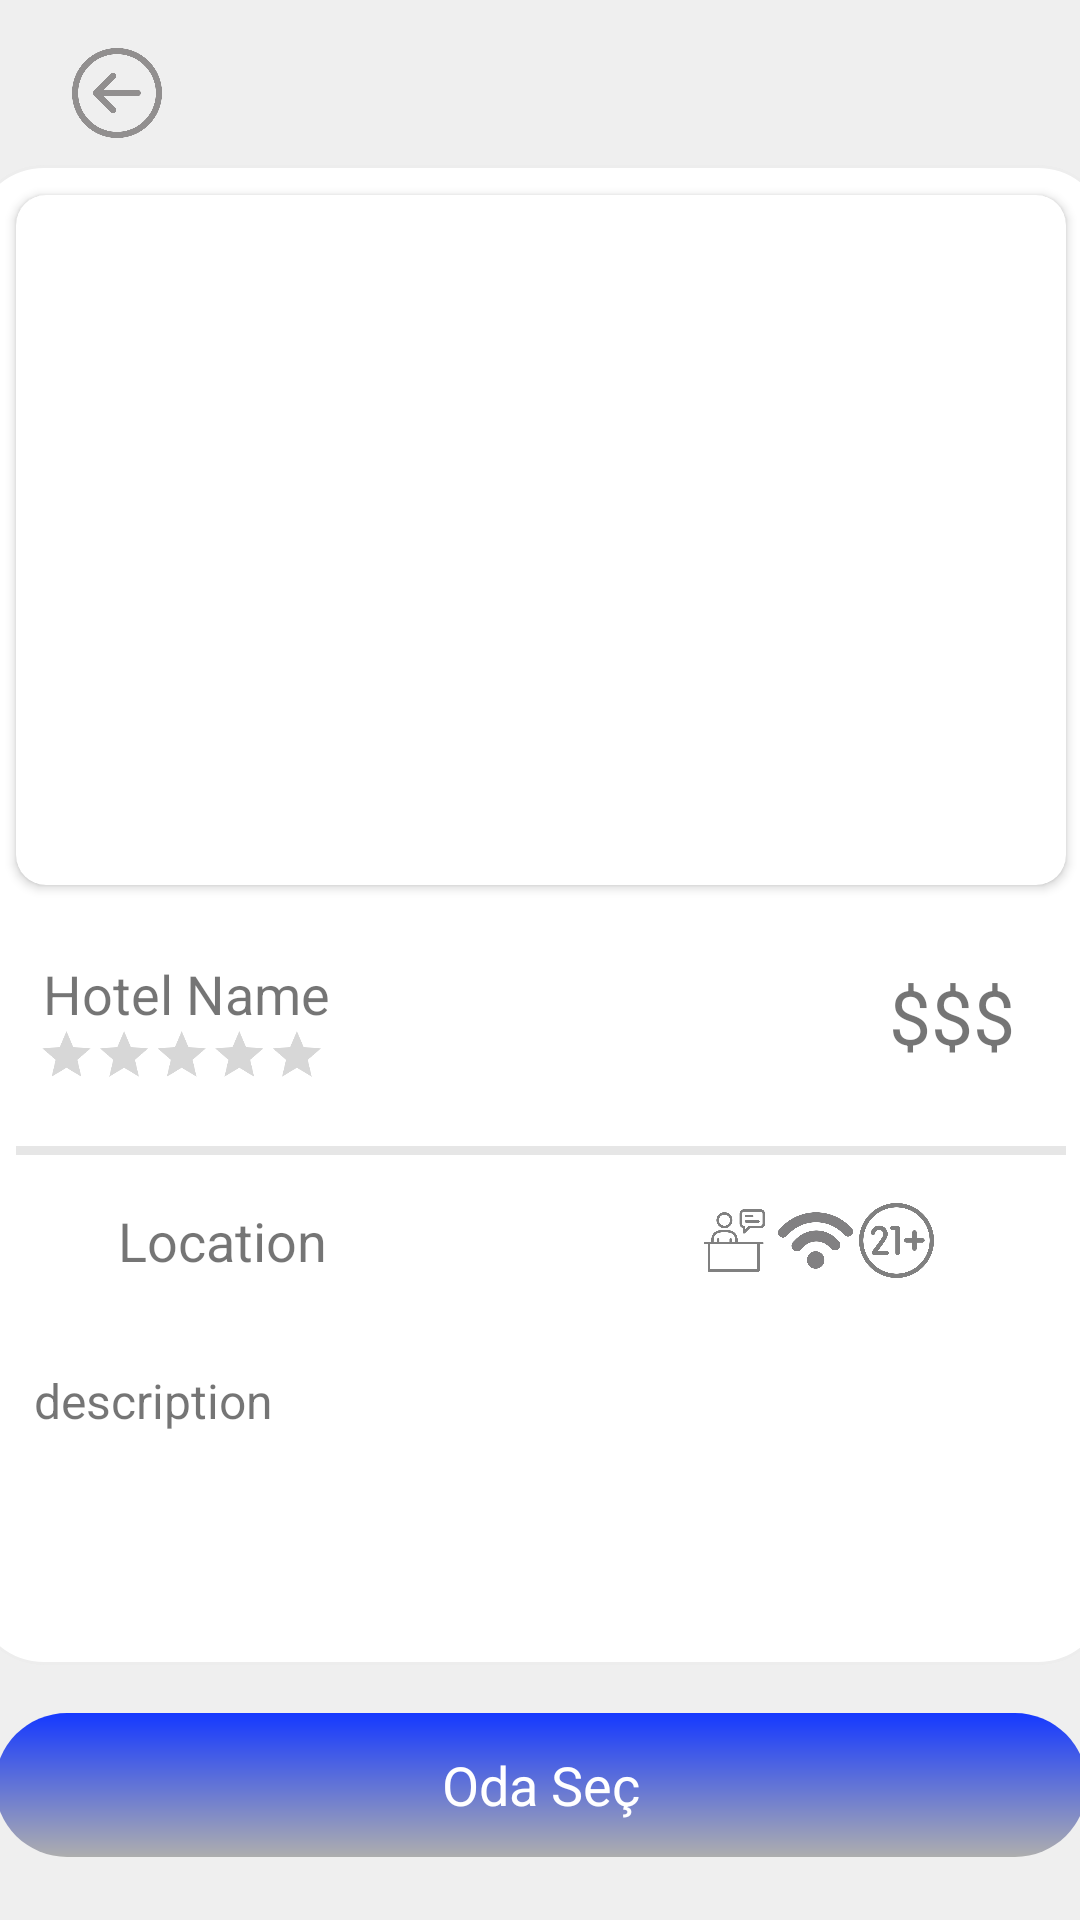

Named icons in this screenshot (1080 × 1920) and their centers, (x,y):
back: (117,93)
reception: (734,1240)
wifi: (815,1240)
